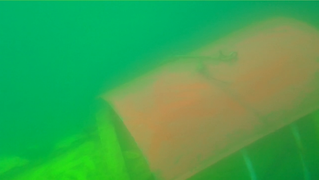leak: (97, 15, 319, 180)
pipe: (1, 112, 155, 180), (185, 110, 319, 179)
